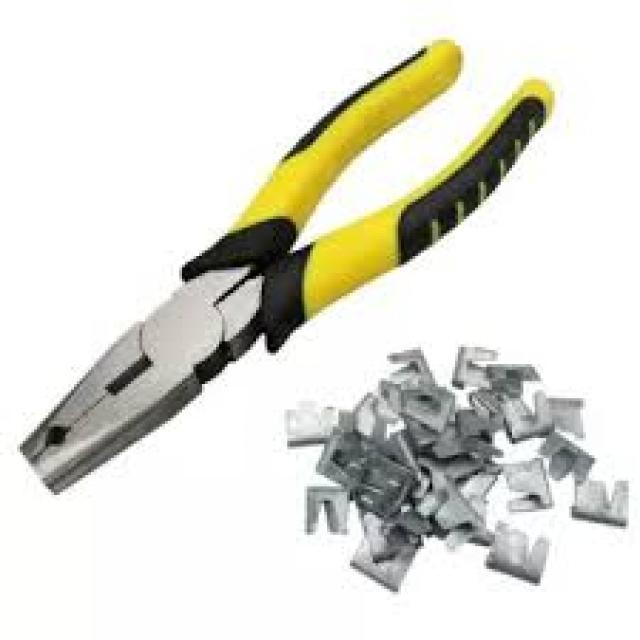pliers: (14, 31, 562, 497)
